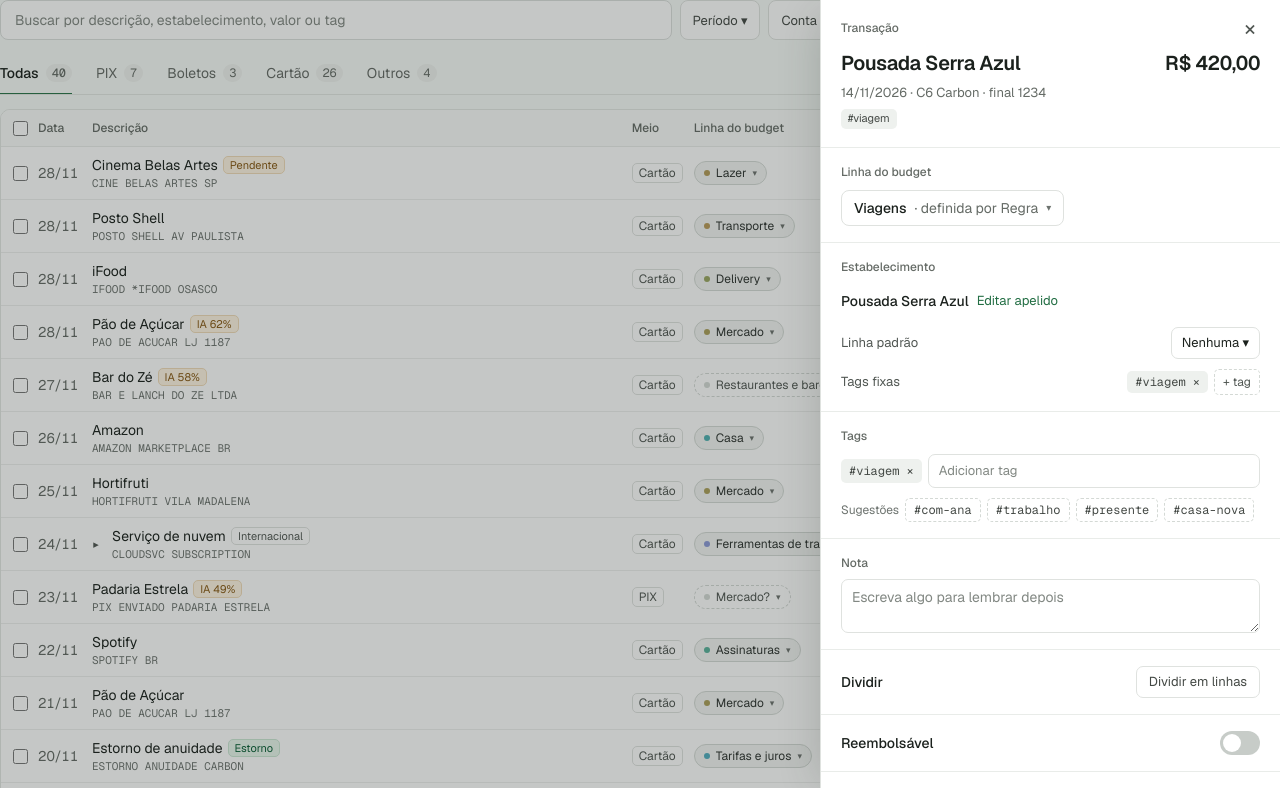
the establishment and the person › sets the default line from the menu
Click the button with class "select". click: (1215, 343)
box: x1=1171 y1=327 x2=1260 y2=359
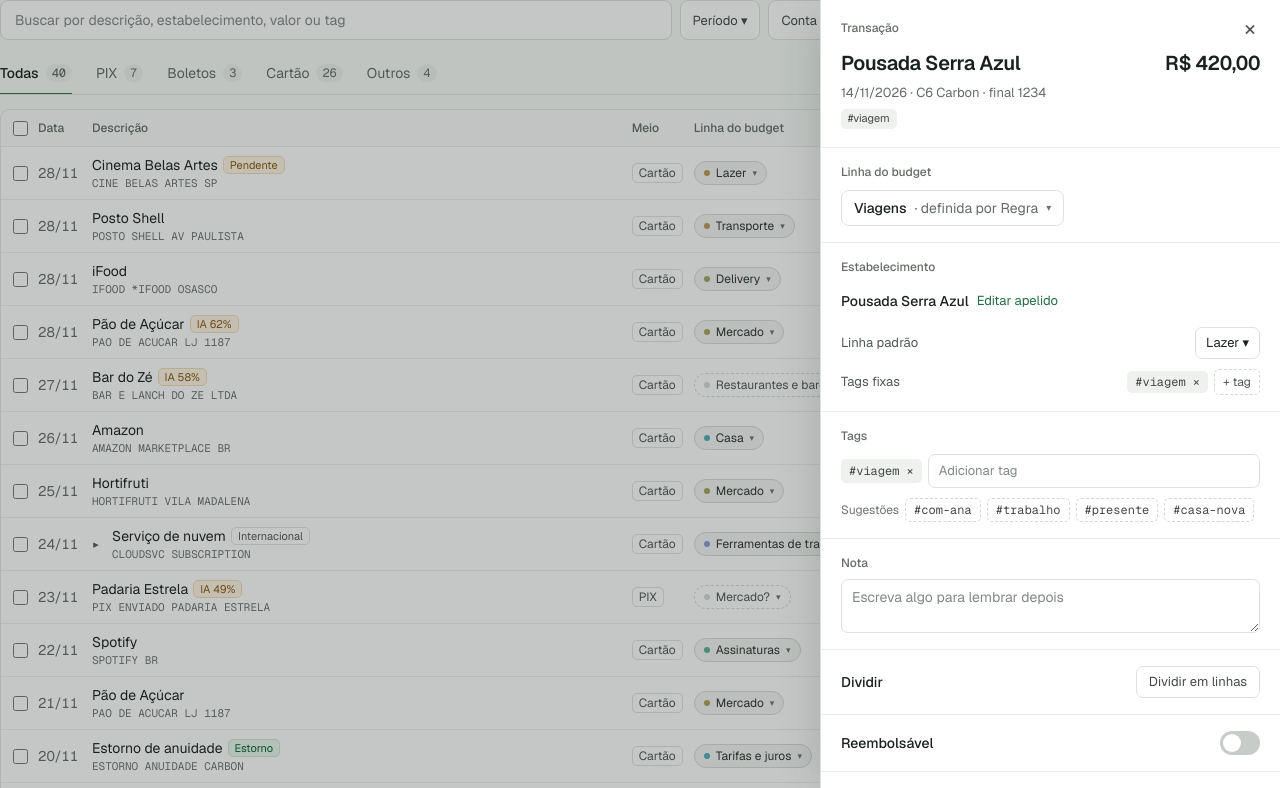
Result: the button with class "select" reads "Lazer ▾" at x1=1195 y1=327 x2=1260 y2=359
